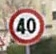limite 40: (8, 6, 43, 46)
